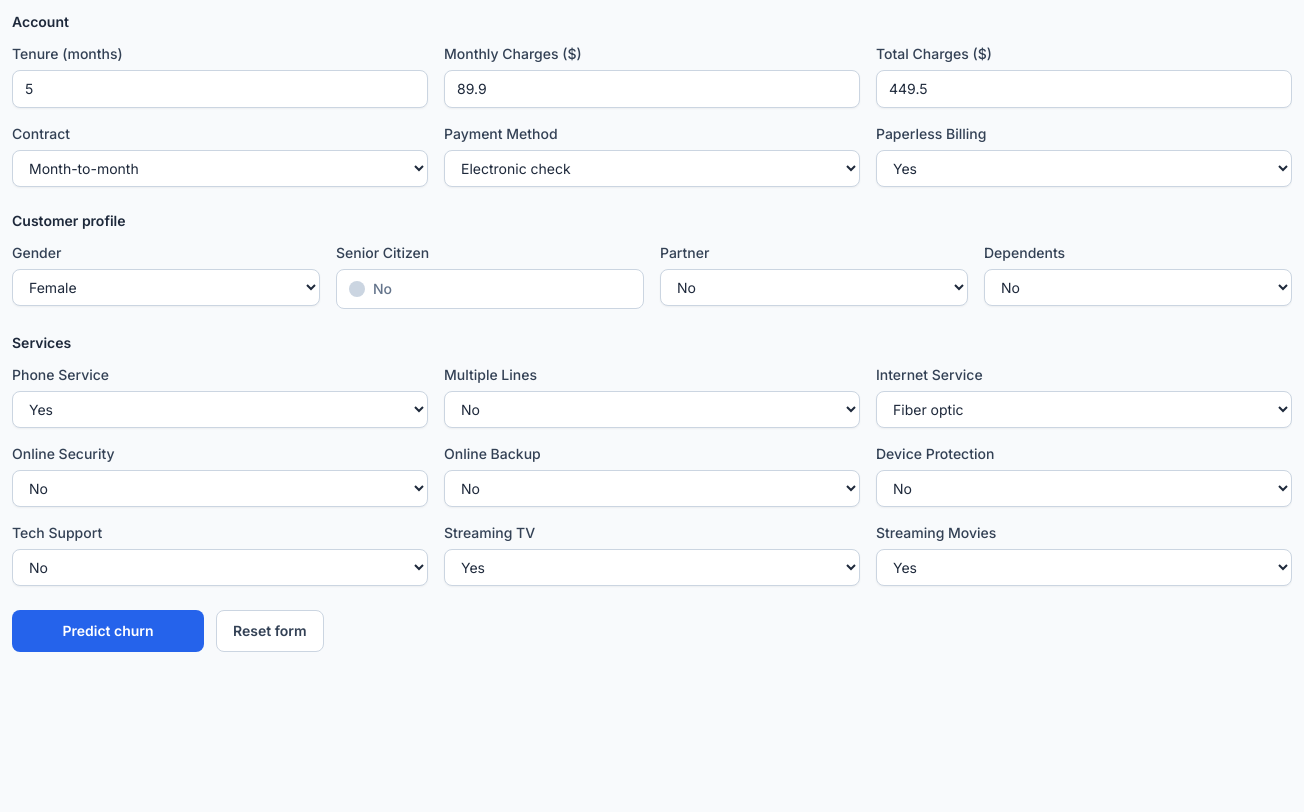
Test: PredictionForm › shows a validation error for an out-of-range tenure
Replace the text in the number field labelled "Tenure (months)" with "999" at (220, 89), box [12,70,428,108]
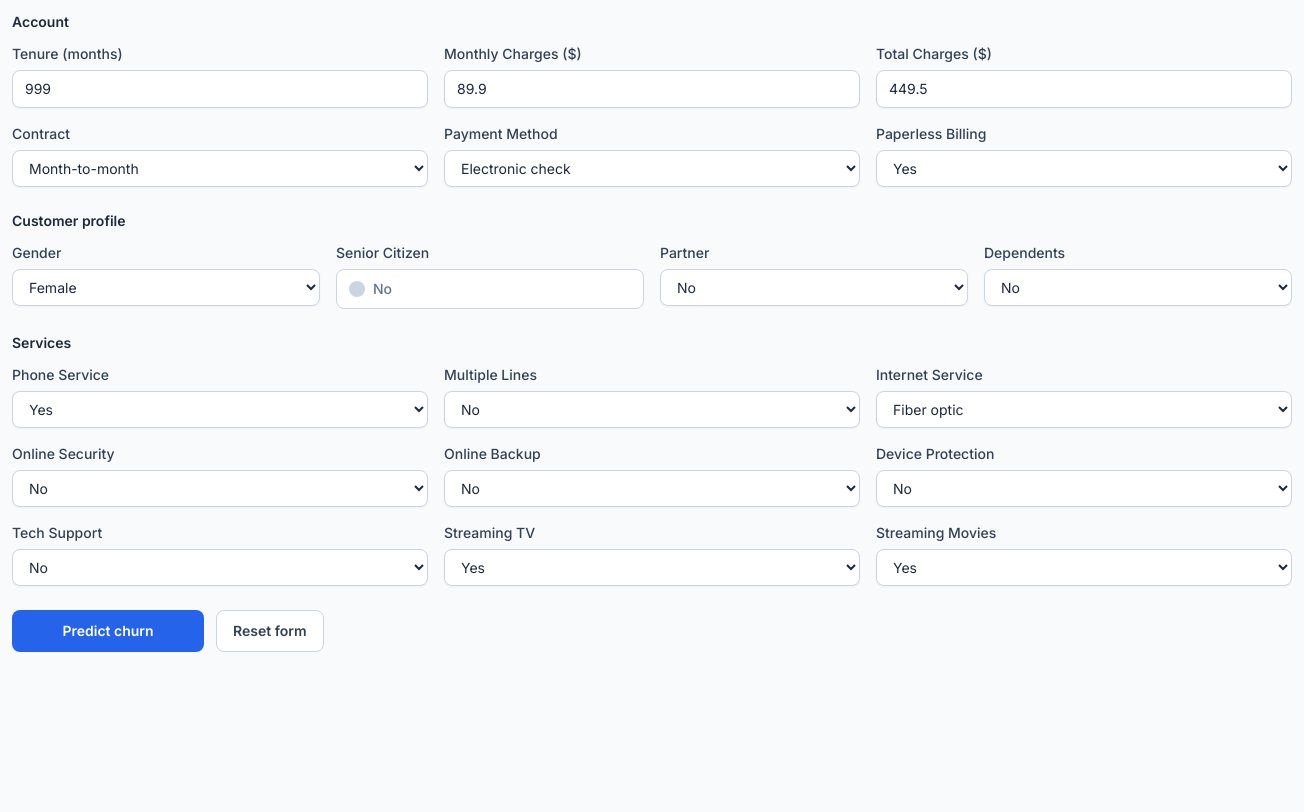
Click the button "Predict churn" at (108, 631), box [12,610,204,652]
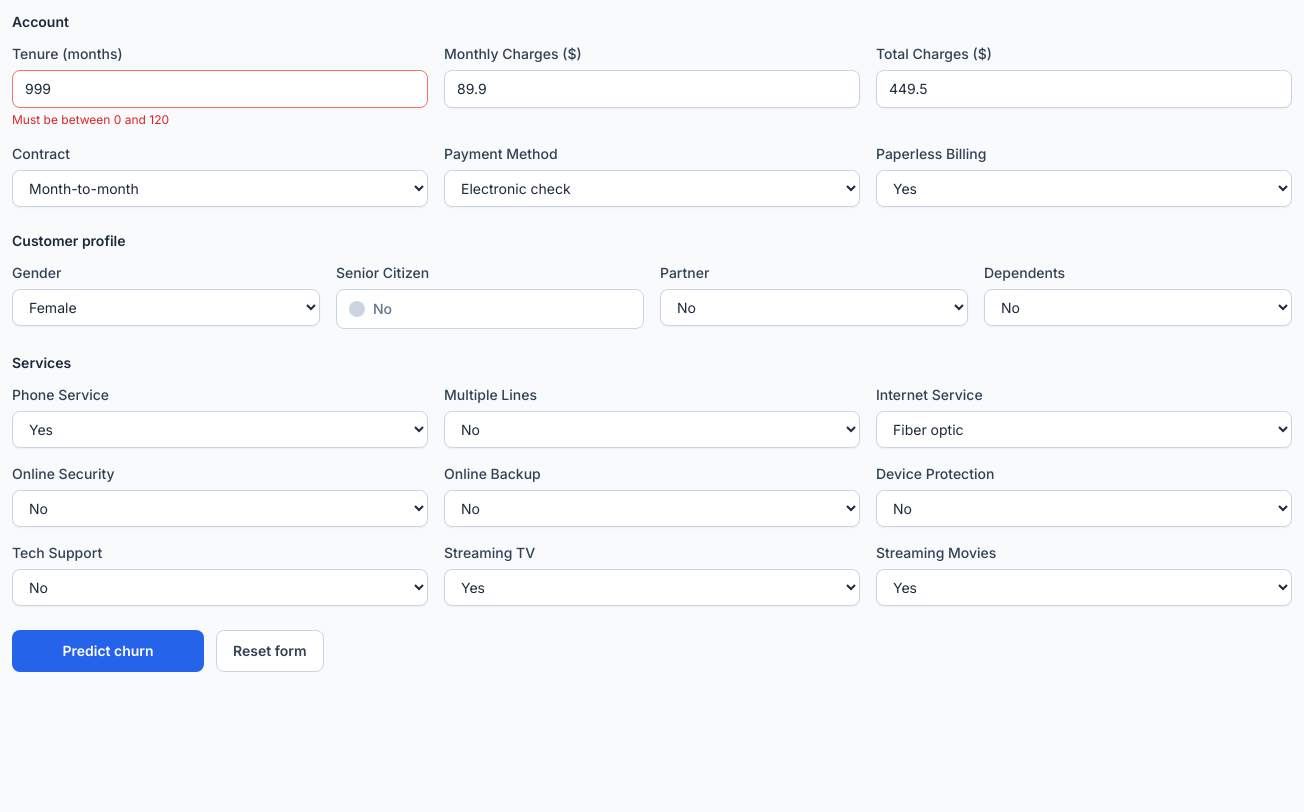
Result: the text "Must be between 0 and 120" is shown at [12,112,169,127]
